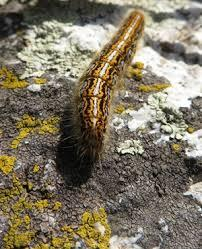fallarmy_worm: (62, 8, 154, 168)
